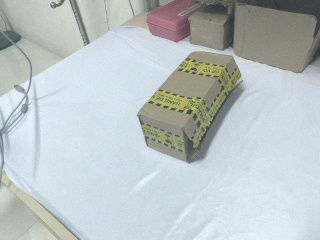box: (138, 52, 241, 163), (233, 1, 320, 72)
